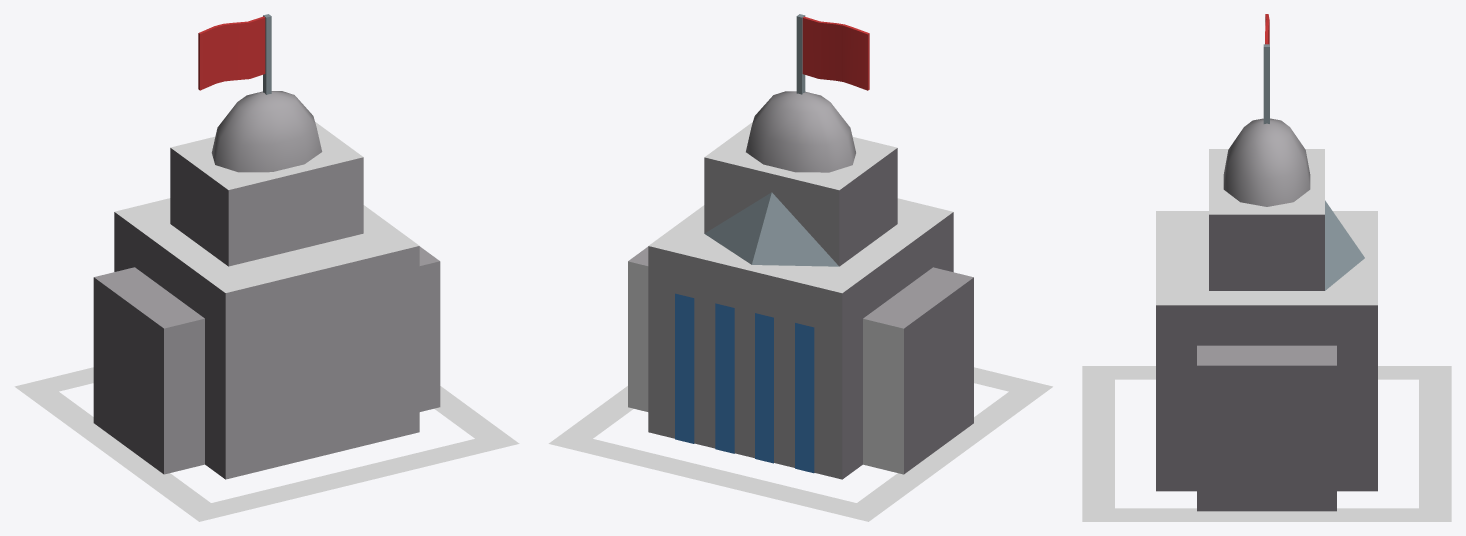
Rendered from HeadQuarter.fbx.
3 renders of one model, left to right at view 1: azimuth 30°, elevation 25°; view 2: azimuth 150°, elevation 25°; view 3: azimuth 270°, elevation 25°, orthographic.
Visible parts, largest first — view 1: HeadQuarter; view 2: HeadQuarter; view 3: HeadQuarter.
Boxes of the visible parts, x1,y1,x2,y2 form: HeadQuarter: (14, 14, 519, 521); HeadQuarter: (548, 14, 1052, 521); HeadQuarter: (1082, 14, 1451, 521).
Size of the model in its own units: 238 by 285 by 238.
